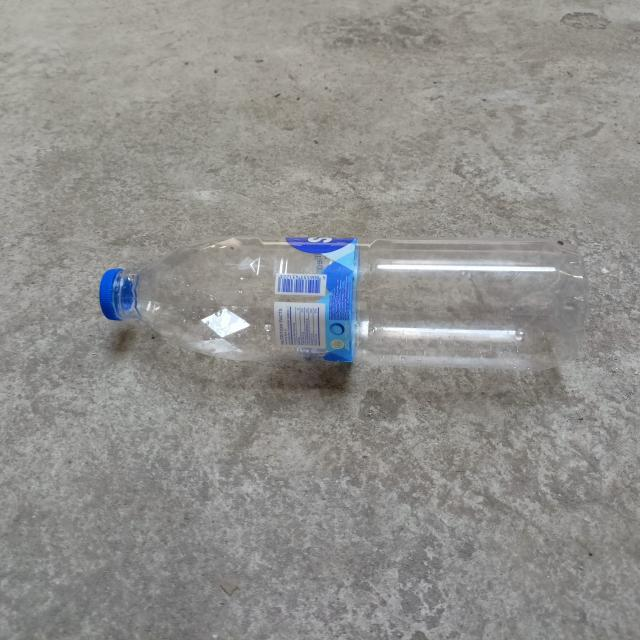Bottle: (99, 235, 588, 372)
